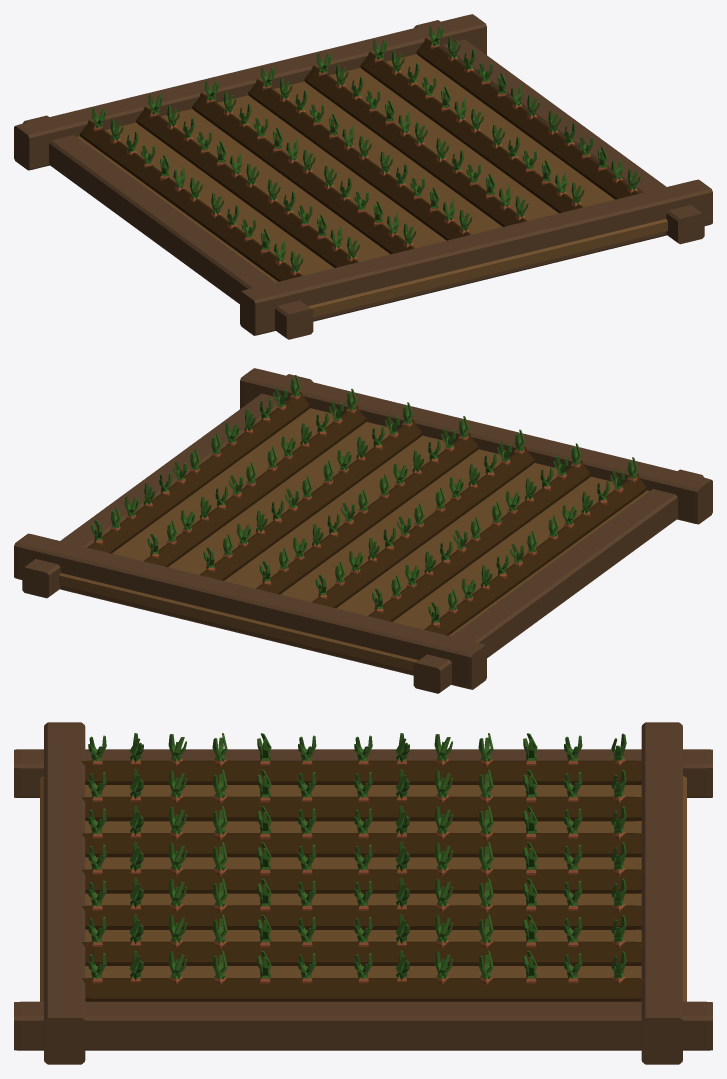
File: FarmPlot#2.fbx
3 views of the same model, one above another, from view 1: azimuth 30°, elevation 25°; view 2: azimuth 150°, elevation 25°; view 3: azimuth 270°, elevation 25° (orthographic). The views are drawn at different scales.
Parts seen in each view (by area): view 1: FarmPlot#2; view 2: FarmPlot#2; view 3: FarmPlot#2.
Boxes of the visible parts, bbox=[...] form: FarmPlot#2: bbox=[14, 14, 712, 339]; FarmPlot#2: bbox=[14, 368, 712, 693]; FarmPlot#2: bbox=[14, 722, 712, 1064].
Bounding box in the file's own units: 2404 × 274 × 2404.
